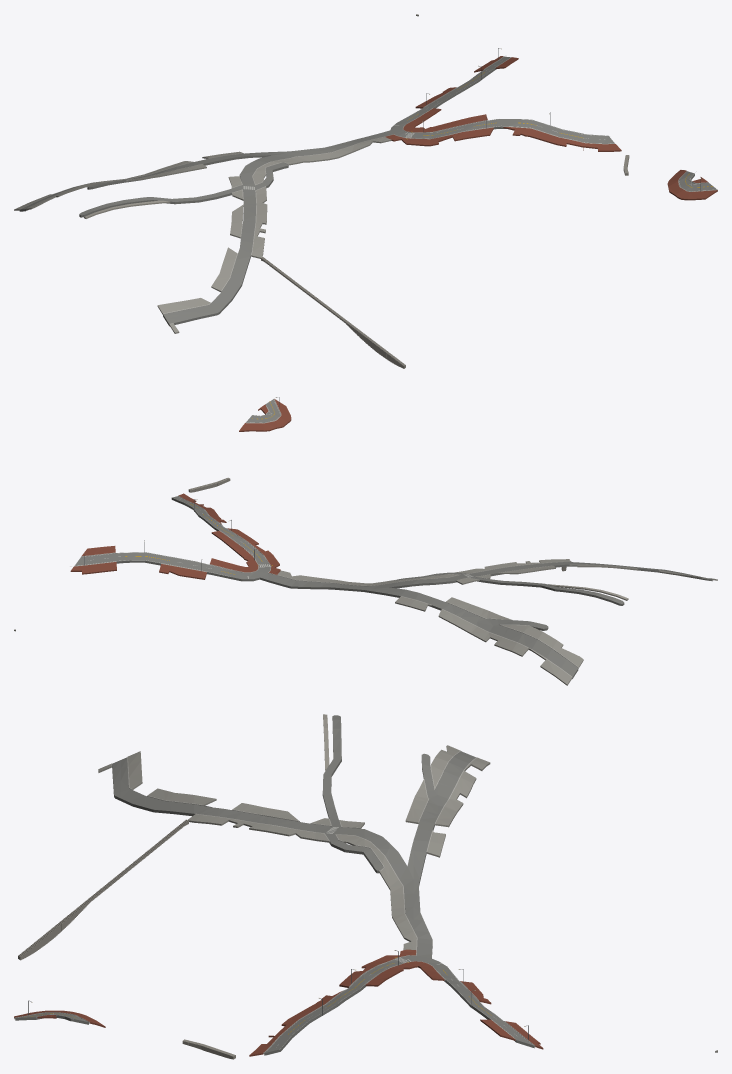
3 renders of one model, top to bottom at view 1: azimuth 30°, elevation 25°; view 2: azimuth 150°, elevation 25°; view 3: azimuth 270°, elevation 25°, orthographic. The views are drawn at different scales.
Size of the model in its own units: 295 by 62.03 by 289.
